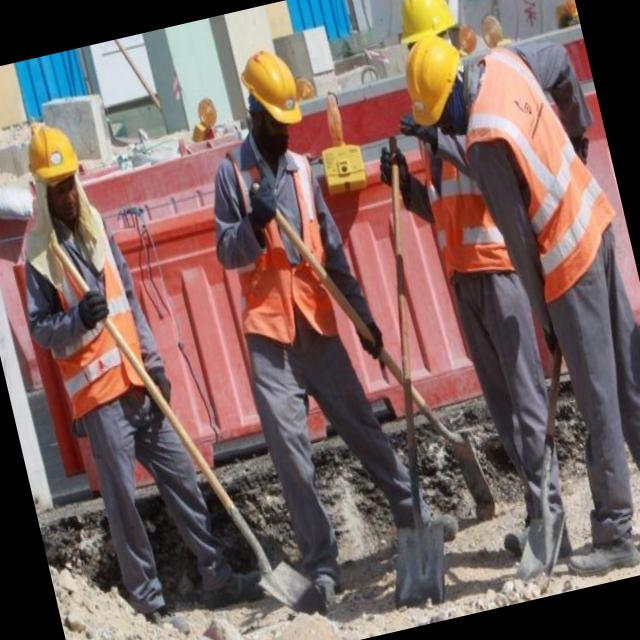helmet: (389, 29, 475, 130), (238, 38, 312, 136), (16, 112, 88, 190), (394, 0, 458, 45)
vest: (468, 77, 618, 281), (16, 208, 158, 410), (220, 132, 336, 344), (414, 132, 508, 282)
